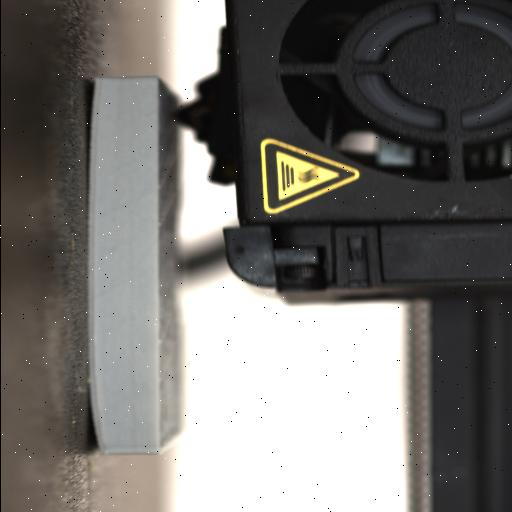warp: (76, 394, 110, 457), (76, 72, 108, 138)
